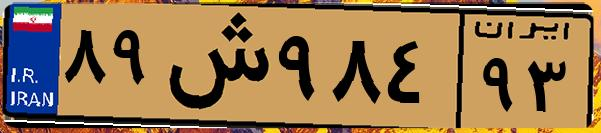3: (525, 38, 570, 115)
4: (385, 28, 445, 110)
8: (330, 28, 385, 110), (57, 26, 110, 100)
9: (270, 28, 330, 110), (475, 38, 525, 113), (110, 28, 158, 98)
ش: (158, 12, 270, 120)
